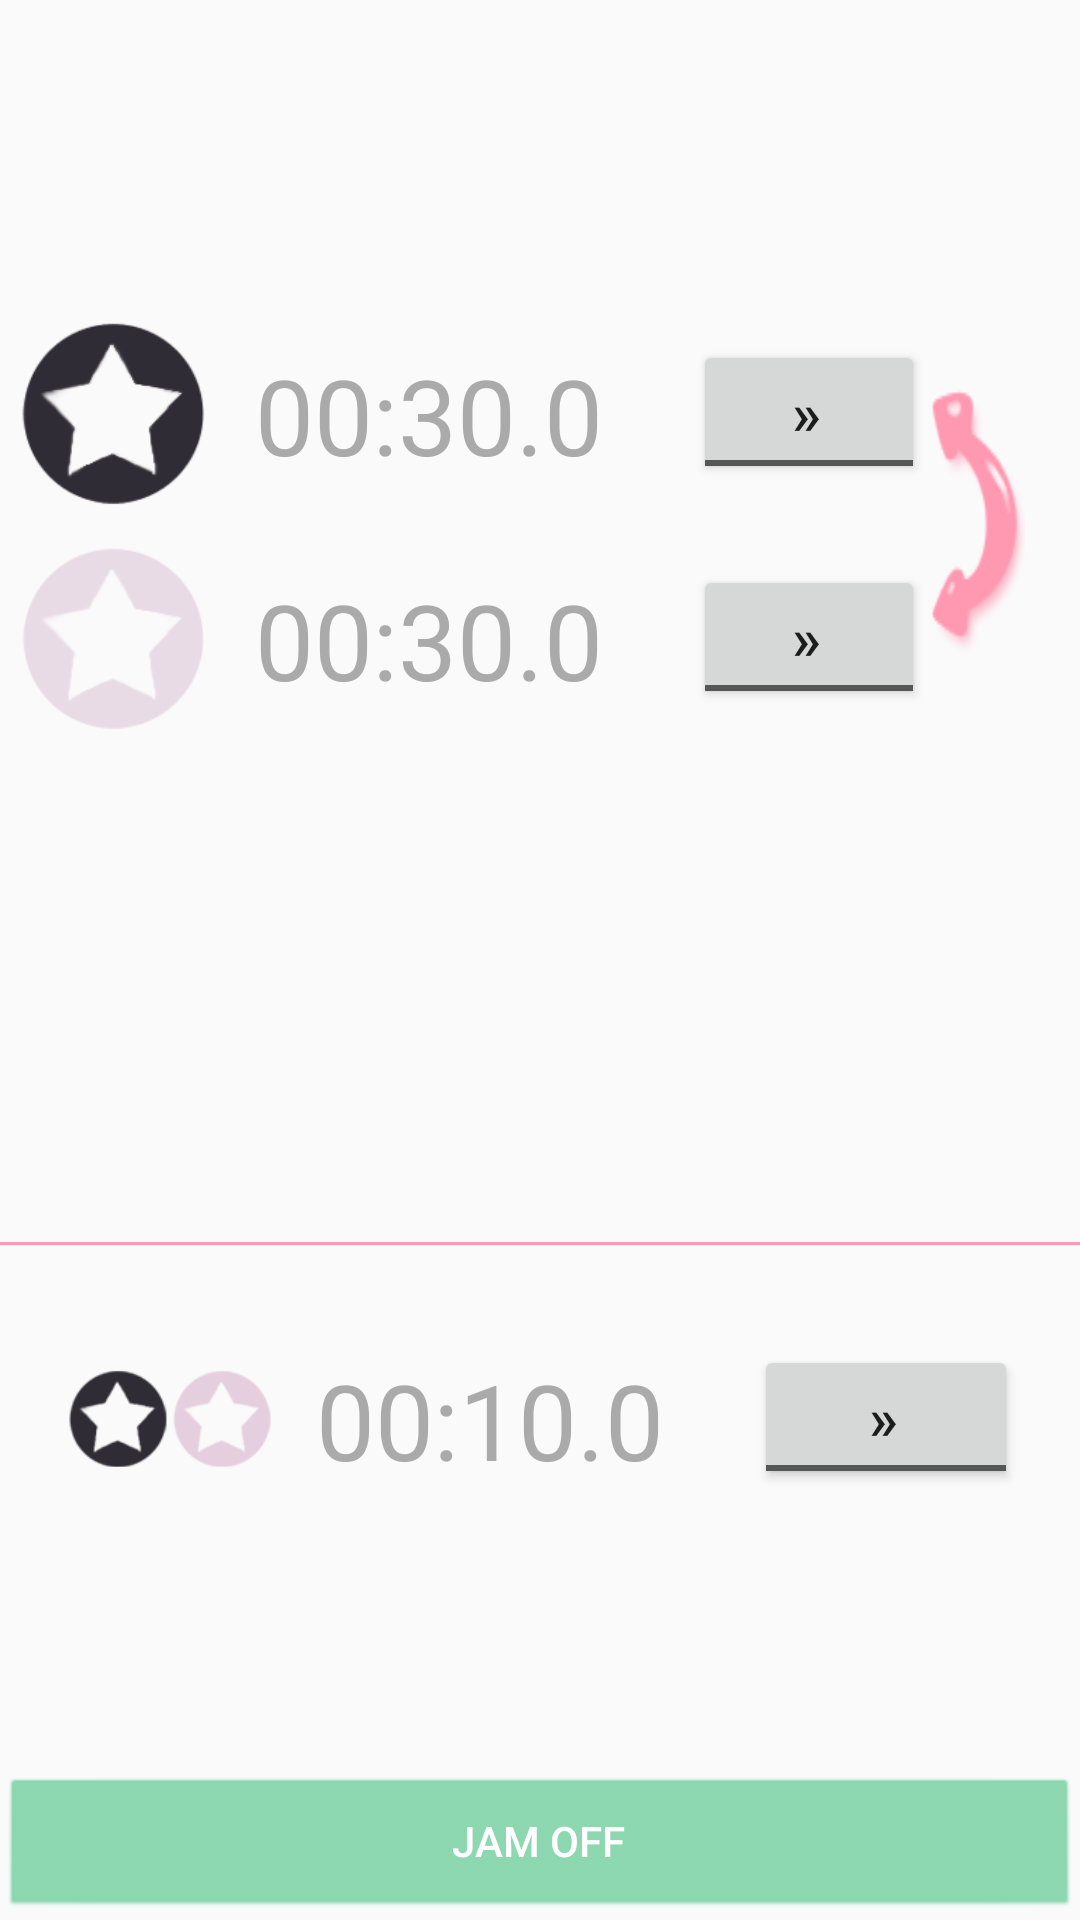

Screen size 1080x1920. Icon name, then its box in pixels as (x1, y1, x2, y2):
jammer: (22, 323, 204, 504), (24, 549, 202, 728)
jammers: (69, 1371, 270, 1467)
swap: (932, 392, 1020, 643)
